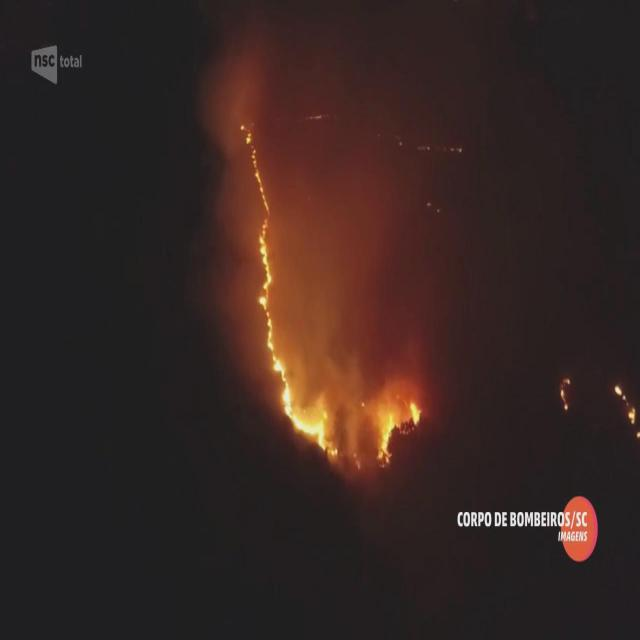Fire: (244, 125, 340, 458), (371, 409, 395, 456), (616, 387, 636, 425), (410, 398, 422, 427)
